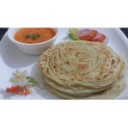parota: (44, 41, 124, 89)
